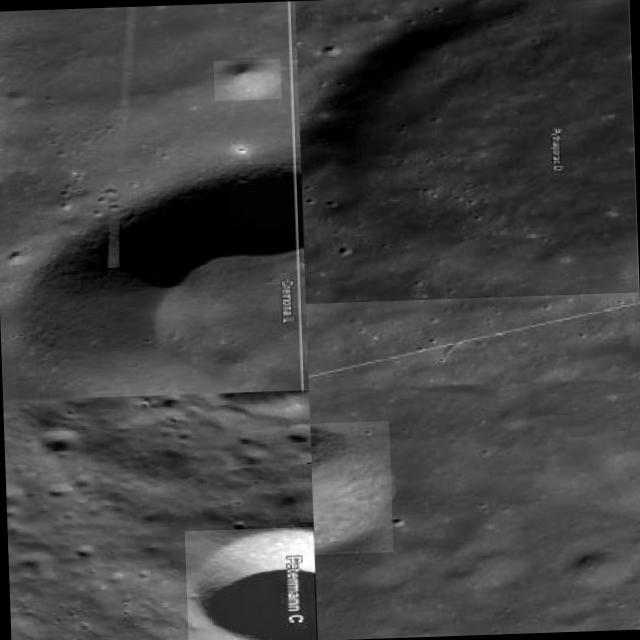crater: (295, 0, 638, 303), (8, 162, 306, 398), (184, 526, 316, 640), (310, 420, 393, 554), (212, 58, 282, 100)
